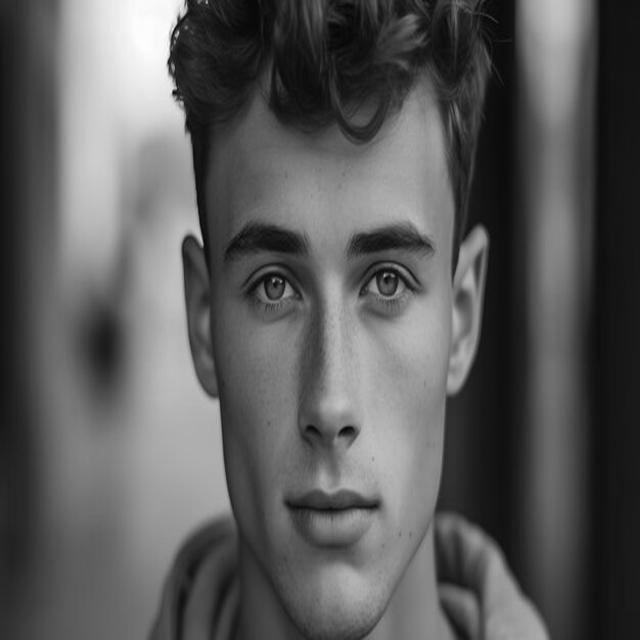Neutral: (212, 59, 451, 640)
